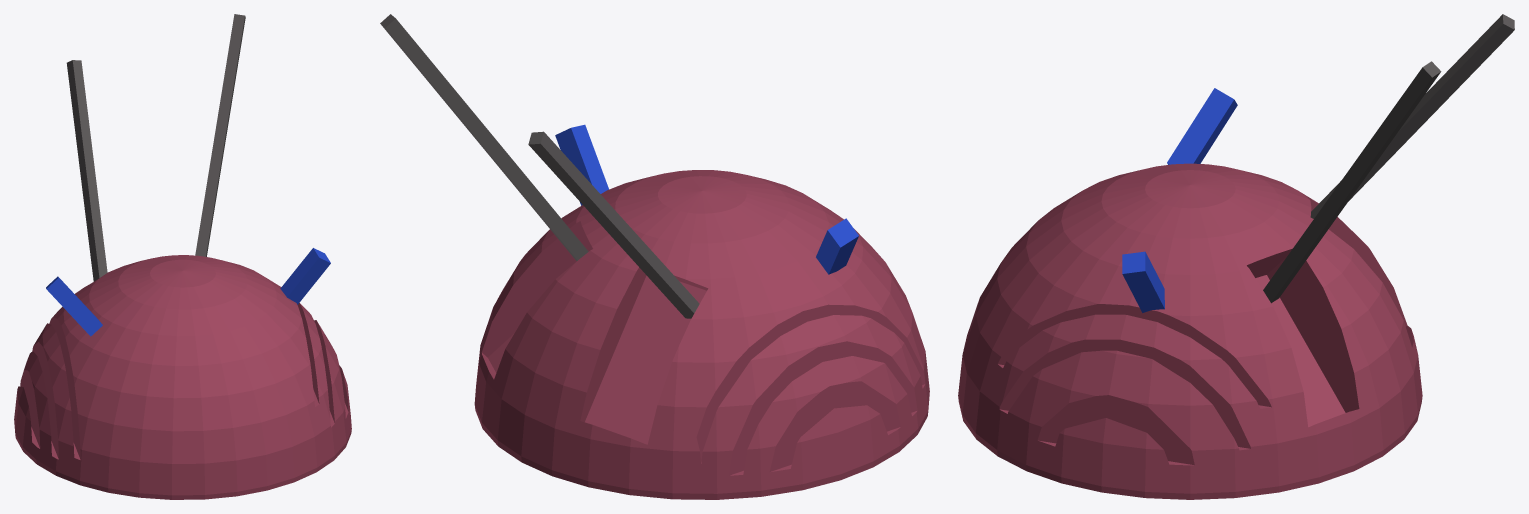
Rendered from phase_gun1.fbx.
3 views of the same model, side by side, from view 1: azimuth 30°, elevation 25°; view 2: azimuth 150°, elevation 25°; view 3: azimuth 270°, elevation 25° (orthographic). The views are drawn at different scales.
Parts seen in each view (by area): view 1: Sphere, Cube_001, Cube, Cube_002, Cube_003; view 2: Sphere, Cube_001, Cube, Cube_002, Cube_003; view 3: Sphere, Cube, Cube_001, Cube_003, Cube_002.
Boxes of the visible parts, x1,y1,x2,y2 form: Sphere: [14, 255, 351, 499]; Cube_001: [66, 60, 107, 281]; Cube: [195, 14, 245, 256]; Cube_002: [280, 248, 330, 304]; Cube_003: [46, 276, 102, 336]; Sphere: [474, 170, 929, 499]; Cube_001: [528, 131, 699, 318]; Cube: [380, 14, 588, 260]; Cube_002: [555, 124, 608, 205]; Cube_003: [816, 218, 858, 274]; Sphere: [958, 163, 1422, 499]; Cube: [1263, 61, 1441, 303]; Cube_001: [1310, 14, 1514, 218]; Cube_003: [1167, 88, 1237, 164]; Cube_002: [1122, 251, 1164, 312].
Size of the model in its own units: 2.03 by 2.06 by 2.4.
